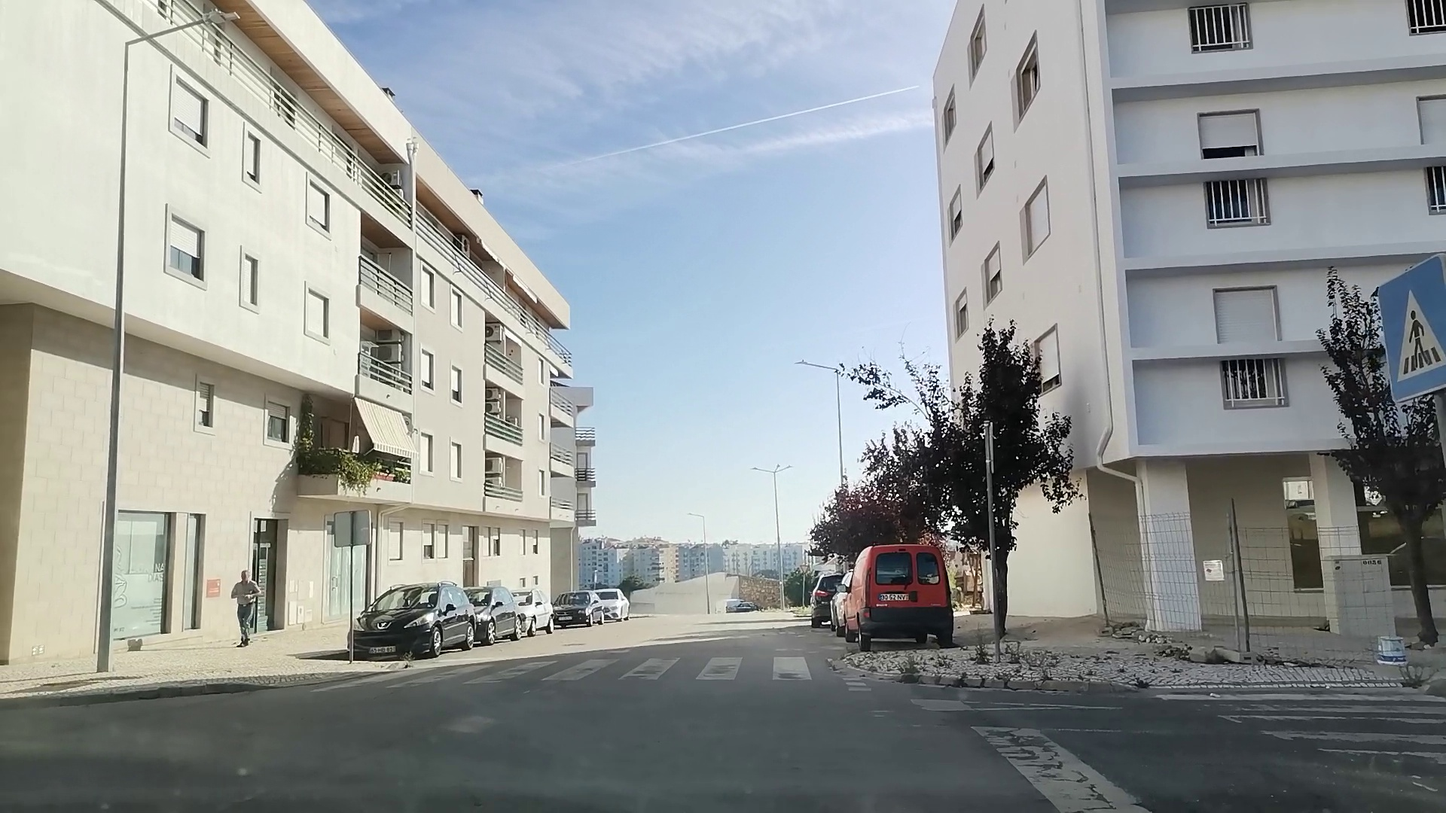Stairs: (1156, 688, 1446, 813), (325, 655, 822, 689)
